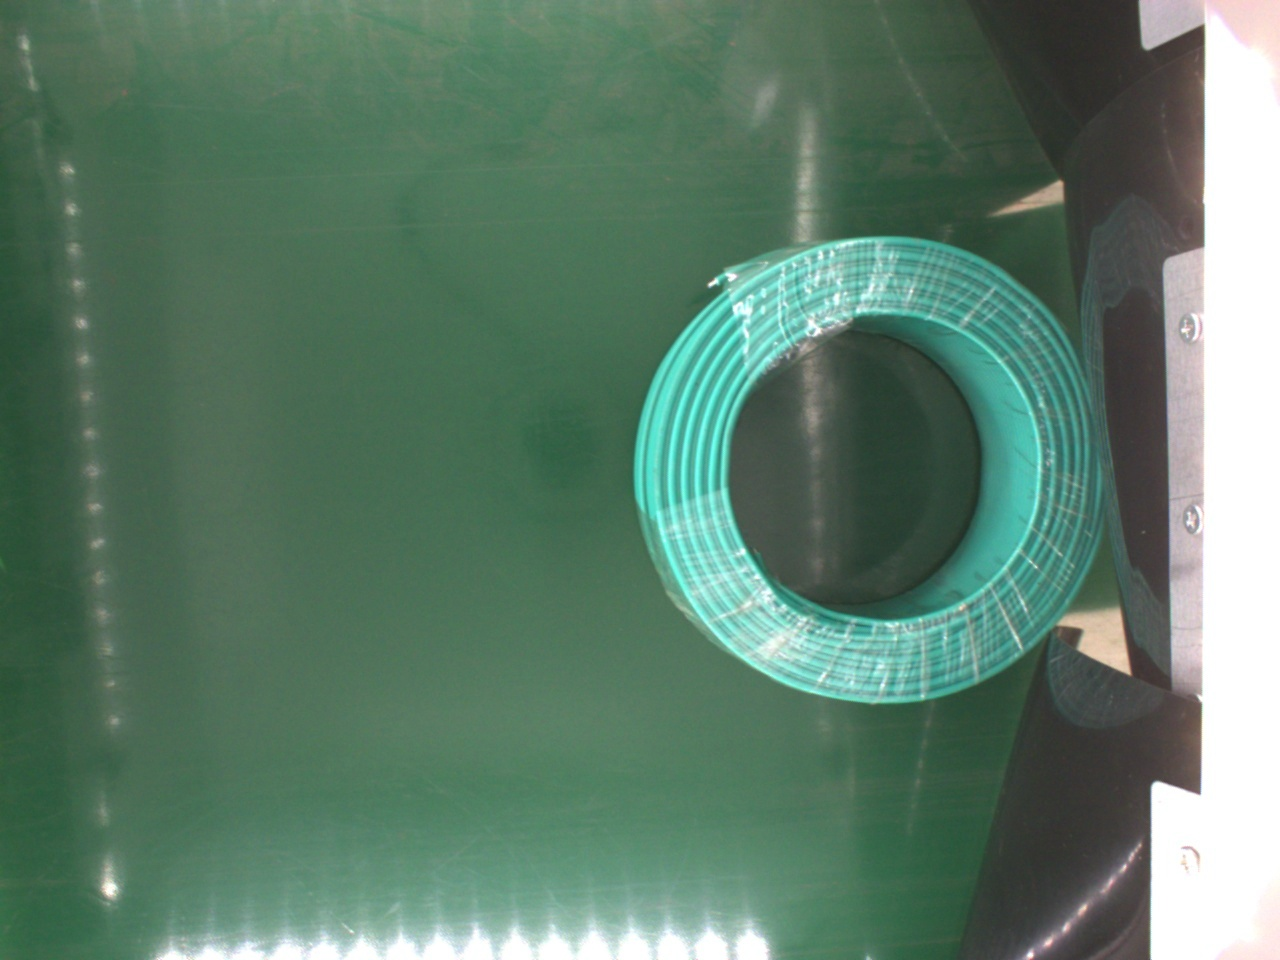green: (632, 231, 1100, 702)
